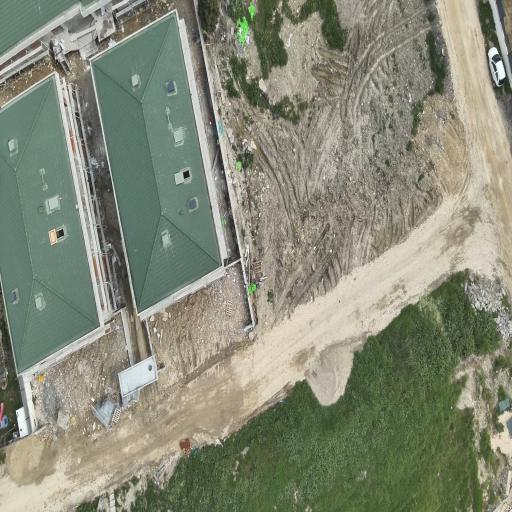car: (488, 47, 505, 86)
